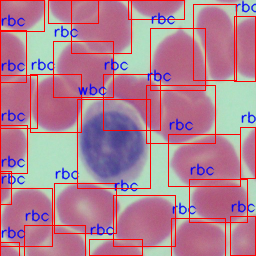rbc: (146, 85, 215, 143), (168, 134, 240, 186), (150, 28, 205, 90), (53, 41, 113, 97), (193, 4, 236, 80), (103, 74, 160, 130), (71, 0, 131, 53), (113, 195, 175, 246), (54, 183, 116, 233), (0, 188, 52, 246), (30, 74, 81, 132), (189, 179, 247, 222), (171, 218, 225, 256), (0, 75, 37, 128), (24, 225, 85, 256), (234, 16, 255, 81), (0, 0, 44, 31), (0, 30, 26, 82), (0, 125, 27, 173), (48, 0, 98, 23), (128, 0, 184, 19), (230, 216, 255, 255), (89, 239, 142, 255), (240, 127, 255, 178), (0, 171, 11, 204), (0, 242, 19, 256)
wbc: (77, 99, 150, 188)
